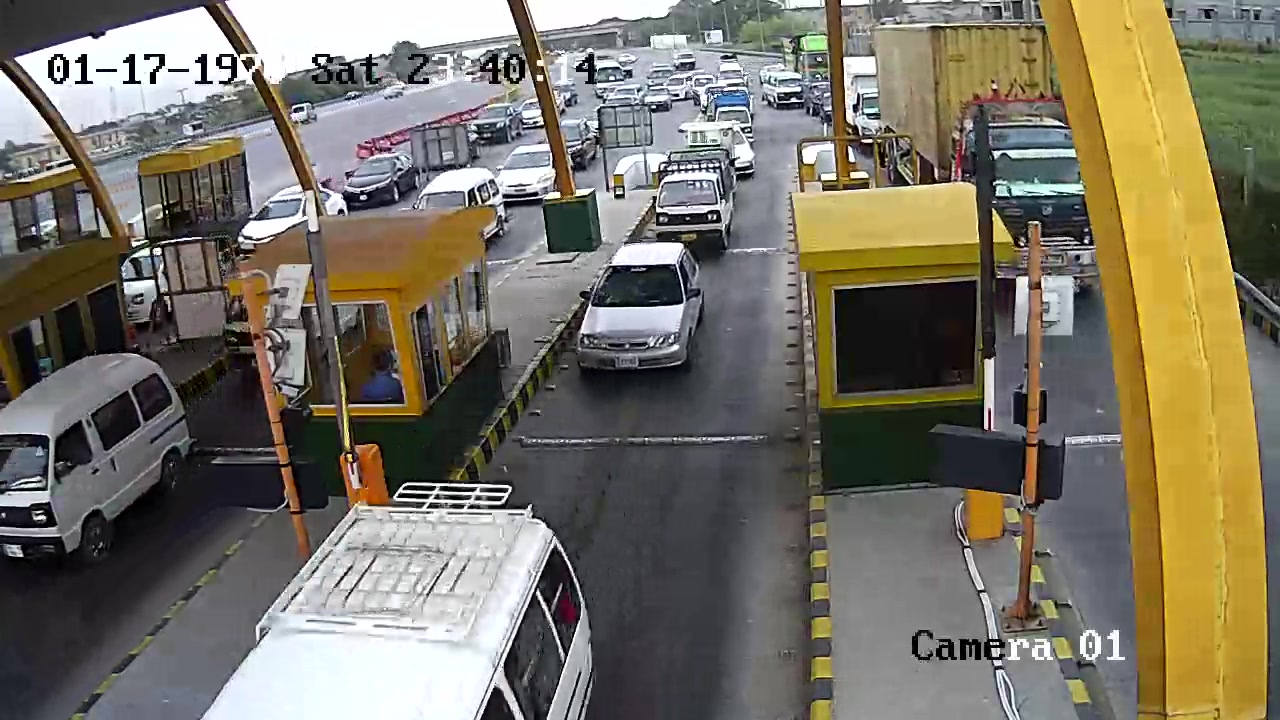F1: (543, 236, 728, 393)
